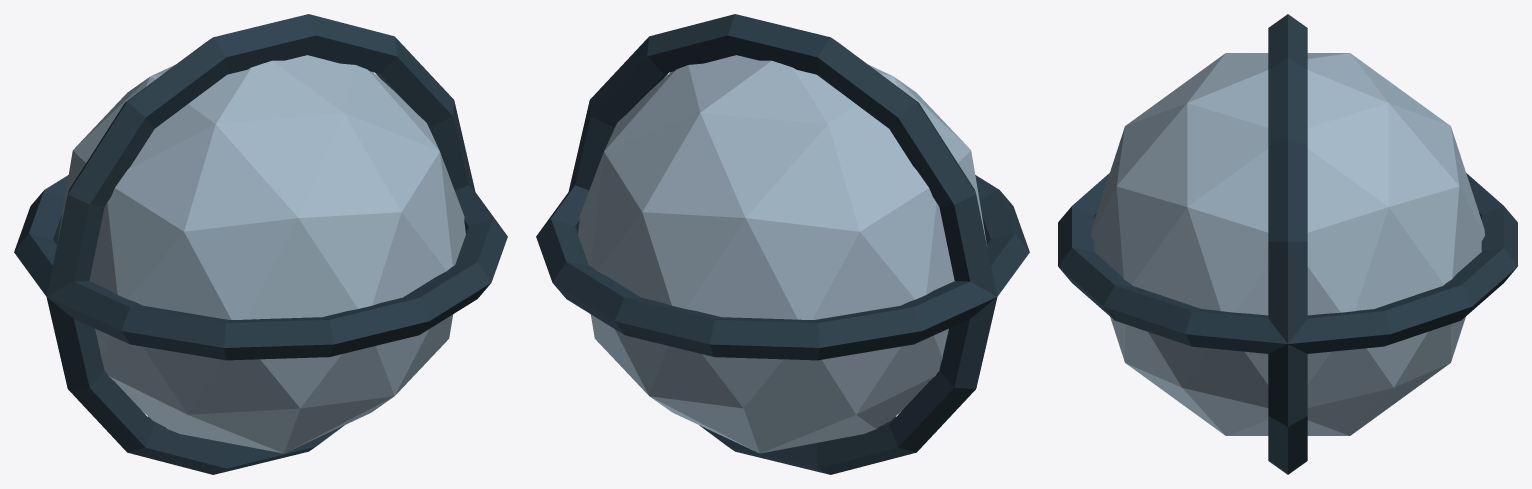
Rendered from mechanical_orb.glb.
3 renders of one model, left to right at view 1: azimuth 30°, elevation 25°; view 2: azimuth 150°, elevation 25°; view 3: azimuth 270°, elevation 25°, orthographic. The views are drawn at different scales.
Visible parts, largest first — view 1: mechanical_orb; view 2: mechanical_orb; view 3: mechanical_orb.
Part boxes in pixels (left/top/right/bottom): mechanical_orb: left=14, top=14, right=507, bottom=474; mechanical_orb: left=536, top=14, right=1029, bottom=474; mechanical_orb: left=1058, top=14, right=1517, bottom=474.
Size of the model in its own units: 2.06 by 2.01 by 2.01.
